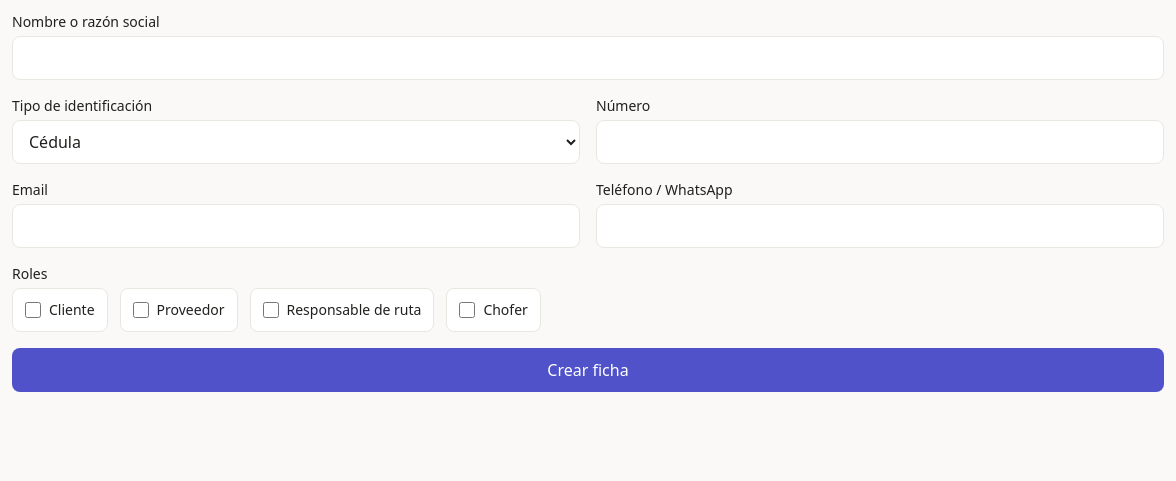
Test: FichaForm › valida los campos requeridos y no envía
Click the button "Crear ficha" at (588, 370), box [12,348,1164,392]
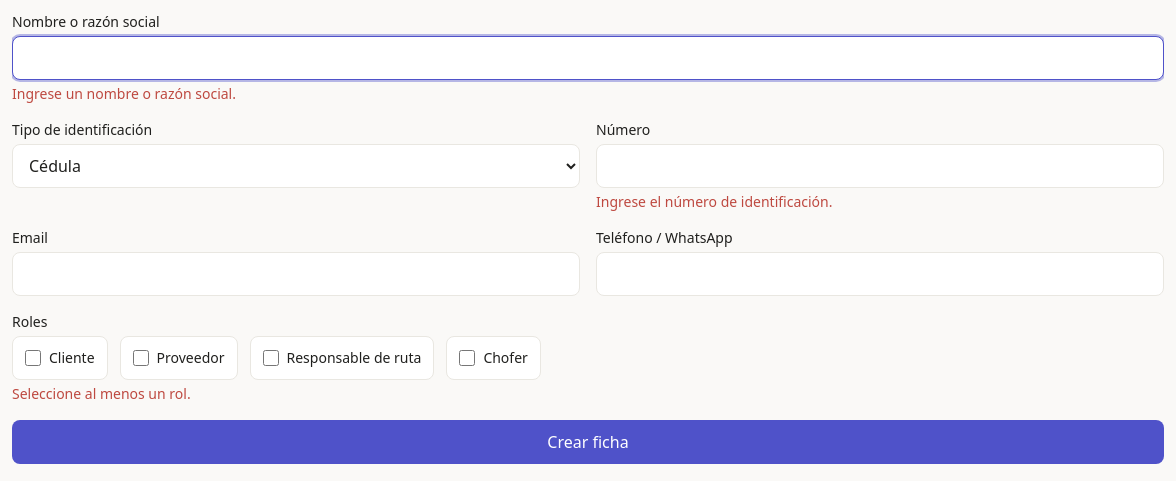
Expected: the text "Ingrese un nombre o razón social." is shown, [12,84,236,103]
Expected: the text "Seleccione al menos un rol." is shown, [12,384,191,403]
